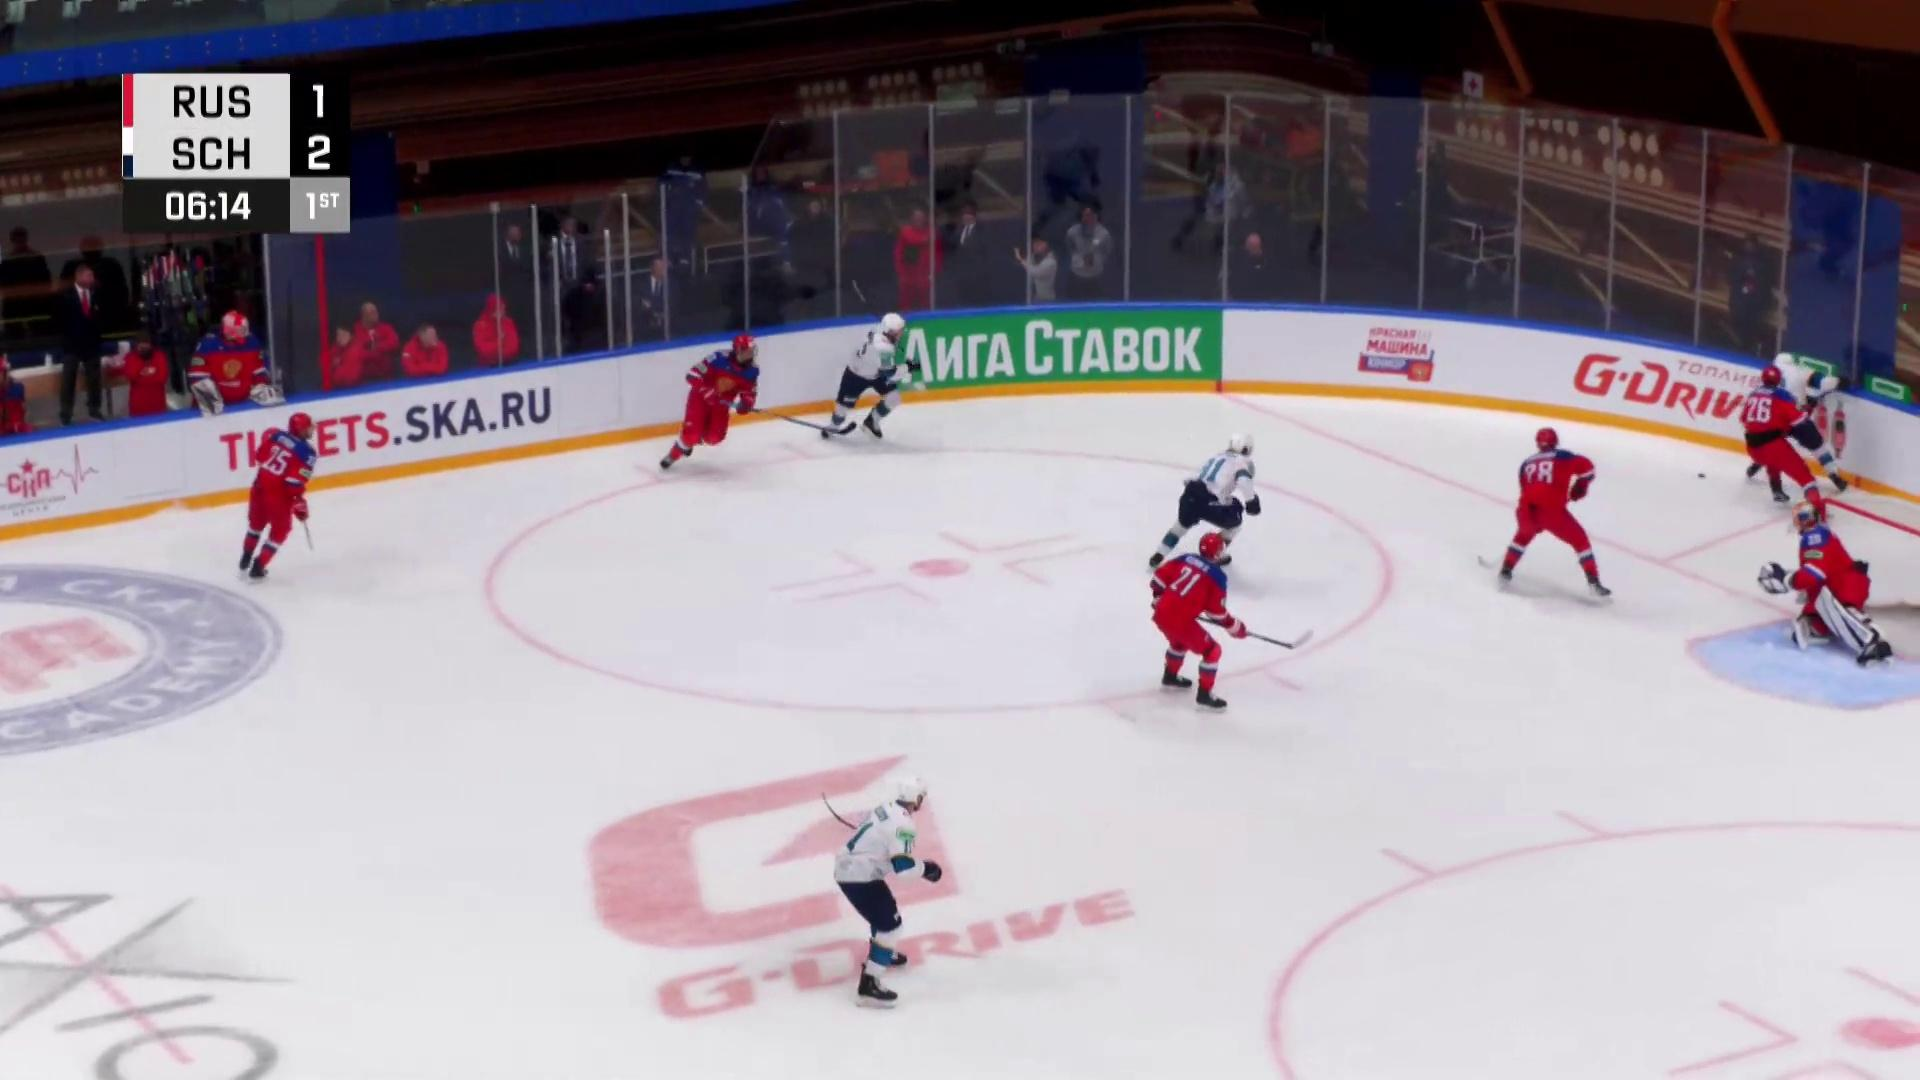ball: (1697, 473, 1706, 479)
